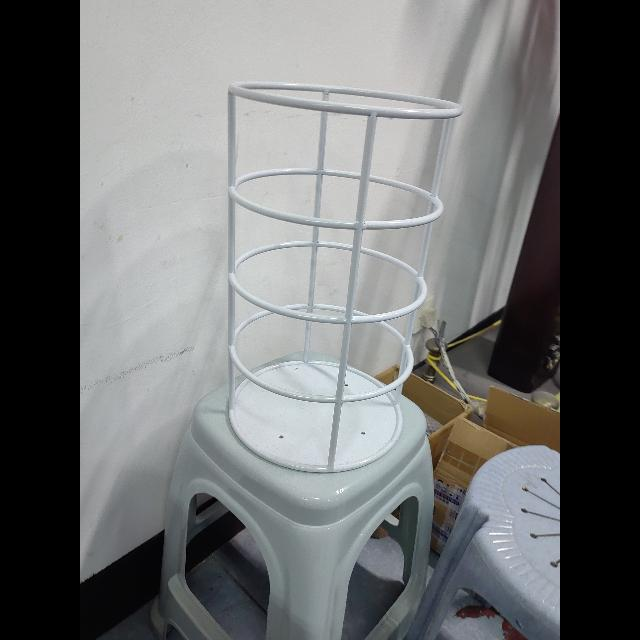S: (220, 77, 470, 480)
